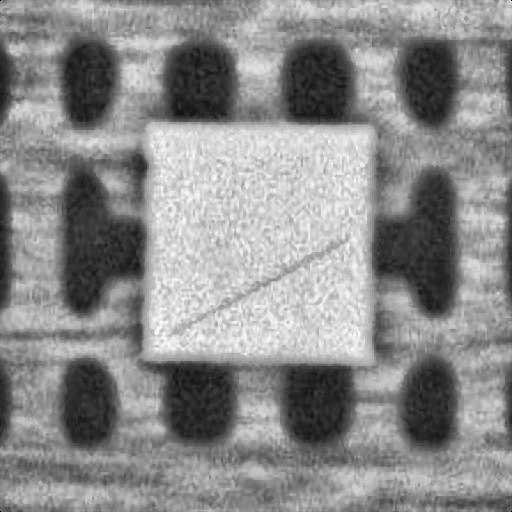DIE_CRACK: (250, 158, 512, 221)
